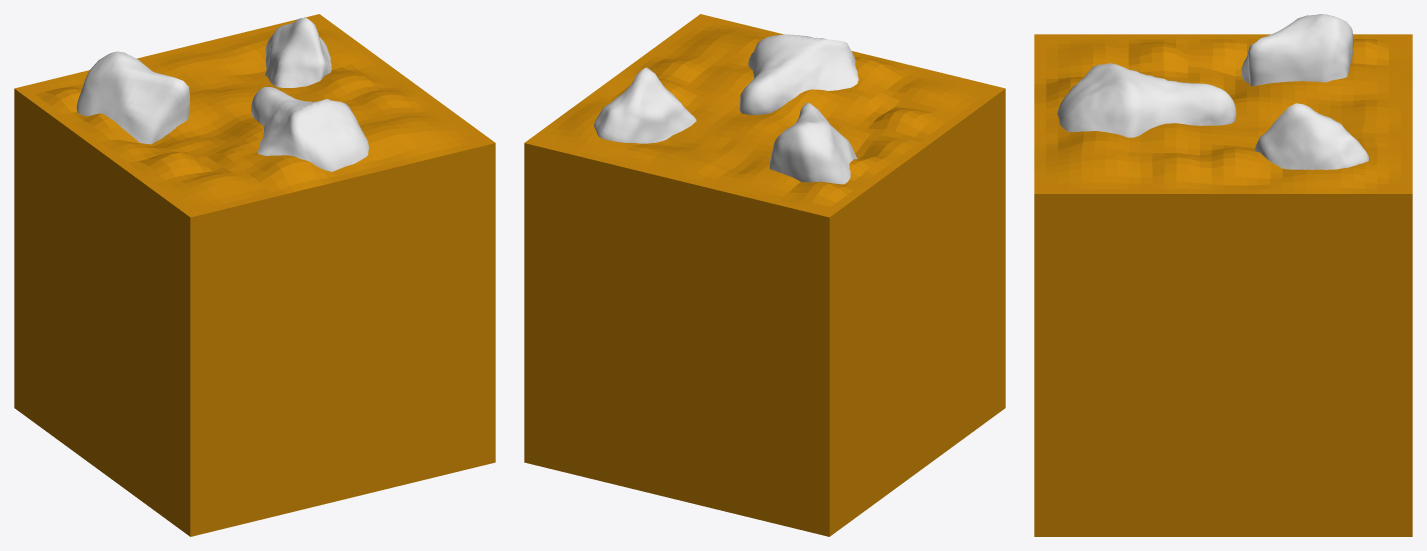
The model's file is Dirtblock2.fbx.
The picture shows the model from 3 angles, left to right: view 1: azimuth 30°, elevation 25°; view 2: azimuth 150°, elevation 25°; view 3: azimuth 270°, elevation 25°; orthographic projection. The views are drawn at different scales.
Visible parts, largest first — view 1: Cube, rock.005, rock.003, rock.004; view 2: Cube, rock.003, rock.004, rock.005; view 3: Cube, rock.003, rock.005, rock.004.
Part boxes in pixels (x1,y1,x2,y2): Cube: [14, 14, 495, 536]; rock.005: [76, 51, 189, 144]; rock.003: [251, 87, 368, 171]; rock.004: [265, 18, 331, 87]; Cube: [524, 14, 1005, 536]; rock.003: [739, 34, 858, 114]; rock.004: [593, 67, 696, 143]; rock.005: [769, 102, 857, 184]; Cube: [1034, 34, 1412, 536]; rock.003: [1057, 63, 1236, 137]; rock.005: [1241, 14, 1353, 86]; rock.004: [1254, 103, 1368, 169].
Bounding box in the file's own units: 200 × 233 × 200.
